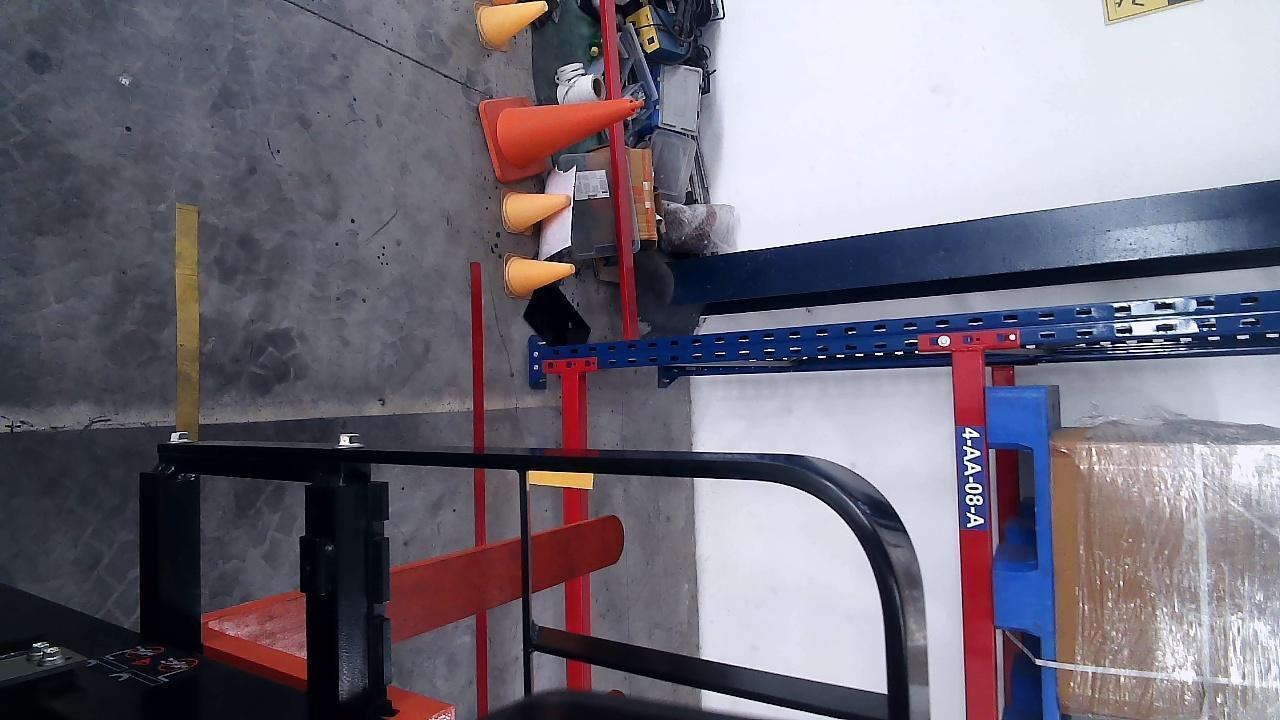red_line: (468, 262, 488, 720)
yellow_line: (176, 205, 199, 440)
